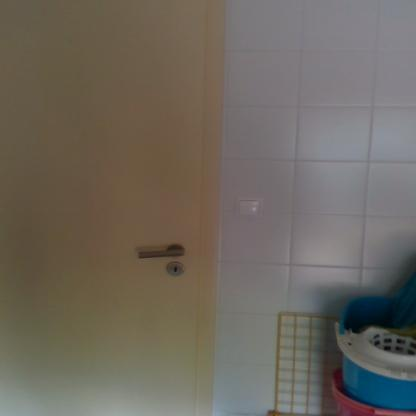door: (0, 0, 199, 415)
lever: (134, 245, 188, 262)
